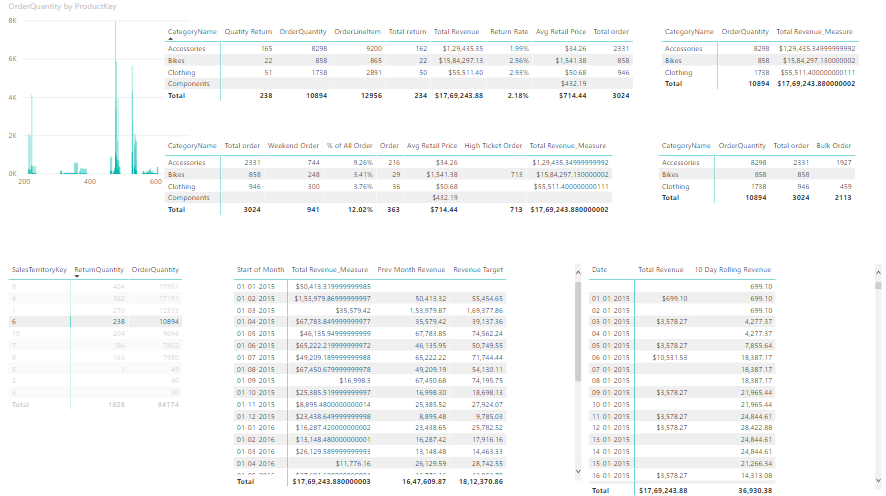

This screenshot's page, from the dashboard's own definition file:
{"tool":"powerbi","page":{"name":"Matrix DAX Opatator","canvas":[1280,720],"ordinal":0},"visuals":[{"type":"clusteredColumnChart","fields":{"Y":["Sum(AW_Sales.OrderQuantity)"],"Category":["AW_Sales.ProductKey"]},"box":[10,0,280,280],"z":0},{"type":"pivotTable","fields":{"Values":["Sum(AW_Returns.ReturnQuantity)","Sum(AW_Sales.OrderQuantity)"],"Rows":["AW_Territories_Lookup.SalesTerritoryKey"]},"box":[30.2,483.8,272.1,236.9],"z":1000},{"type":"pivotTable","fields":{"Rows":["AW_Product_Category_Lookup.CategoryName","AW_Product_Subcategory_Lookup.SubcategoryName","AW_Product_Lookup.ProductName"],"Values":["AW_Returns.Quatity Return","Sum(AW_Sales.OrderQuantity)","Sum(AW_Sales.OrderLineItem)","AW_Returns.Total return","AW_Sales.Total Revenue","AW_Returns.Return Rate","AW_Product_Lookup.Avg Retail Price","AW_Sales.Total order"]},"box":[235.2,31.7,733,138.5],"z":2000},{"type":"pivotTable","fields":{"Rows":["AW_Product_Category_Lookup.CategoryName","AW_Product_Lookup.ProductName","AW_Product_Subcategory_Lookup.SubcategoryName"],"Values":["Sum(AW_Sales.OrderQuantity)","AW_Sales.Total order","AW_Sales.Bulk Order"]},"box":[0,360.7,314.5,112.5],"z":3000},{"type":"pivotTable","fields":{"Values":["AW_Sales.Total order","AW_Sales.Weekend Order","AW_Sales.% of All Order","AW_Sales.Order","AW_Product_Lookup.Avg Retail Price","AW_Sales.High Ticket Order","AW_Sales.Total Revenue_Measure"],"Rows":["AW_Product_Category_Lookup.CategoryName"]},"box":[235.2,196.2,666.6,147.2],"z":4000},{"type":"pivotTable","fields":{"Rows":["AW_Product_Category_Lookup.CategoryName"],"Values":["Sum(AW_Sales.OrderQuantity)","AW_Sales.Total Revenue_Measure"]},"box":[952.3,31.7,310.2,150.1],"z":5000},{"type":"pivotTable","fields":{"Values":["AW_Sales.Total Revenue_Measure","AW_Sales.Prev Month Revenue","AW_Sales.Revenue Target"],"Rows":["AW_Calendar_Lookup.Start of Month"]},"box":[750.3,331.9,512.2,360.7],"z":6000},{"type":"pivotTable","fields":{"Values":["AW_Sales.Total Revenue","AW_Sales.10 Day Rolling Revenue"],"Rows":["AW_Calendar_Lookup.Date"]},"box":[952,196,310,150],"z":7000}]}

Visuals, with their boxes in screenshot pixels (x1, y1, x2, y2), scaled from the page's 1280x720 canvas onto the 886x496 screenshot:
clusteredColumnChart - Sum(AW_Sales.OrderQuantity) x AW_Sales.ProductKey: <region>7, 0, 201, 193</region>
pivotTable - Sum(AW_Returns.ReturnQuantity) x Sum(AW_Sales.OrderQuantity): <region>21, 333, 209, 495</region>
pivotTable - AW_Product_Category_Lookup.CategoryName x AW_Product_Subcategory_Lookup.SubcategoryName: <region>163, 22, 670, 117</region>
pivotTable - AW_Product_Category_Lookup.CategoryName x AW_Product_Lookup.ProductName: <region>0, 248, 218, 326</region>
pivotTable - AW_Sales.Total order x AW_Sales.Weekend Order: <region>163, 135, 624, 237</region>
pivotTable - AW_Product_Category_Lookup.CategoryName x Sum(AW_Sales.OrderQuantity): <region>659, 22, 874, 125</region>
pivotTable - AW_Sales.Total Revenue_Measure x AW_Sales.Prev Month Revenue: <region>519, 229, 874, 477</region>
pivotTable - AW_Sales.Total Revenue x AW_Sales.10 Day Rolling Revenue: <region>659, 135, 874, 238</region>
